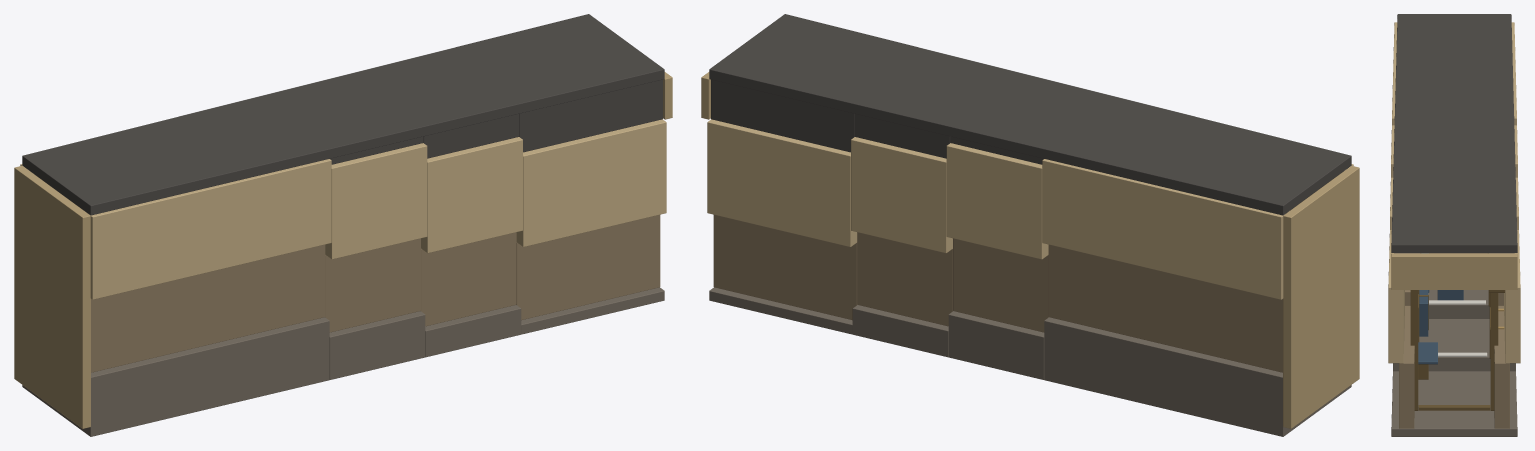
Rendered from crawl.glb.
The picture shows the model from 3 angles, left to right: view 1: azimuth 30°, elevation 25°; view 2: azimuth 150°, elevation 25°; view 3: azimuth 270°, elevation 25°; orthographic projection. The views are drawn at different scales.
Parts seen in each view (by area): view 1: CRAWL; view 2: CRAWL; view 3: CRAWL.
Part boxes in pixels (<box>): CRAWL: <box>14,14,672,436</box>; CRAWL: <box>701,14,1359,436</box>; CRAWL: <box>1388,14,1520,436</box>.
Size of the model in its own units: 7.4 by 2.79 by 1.74.
